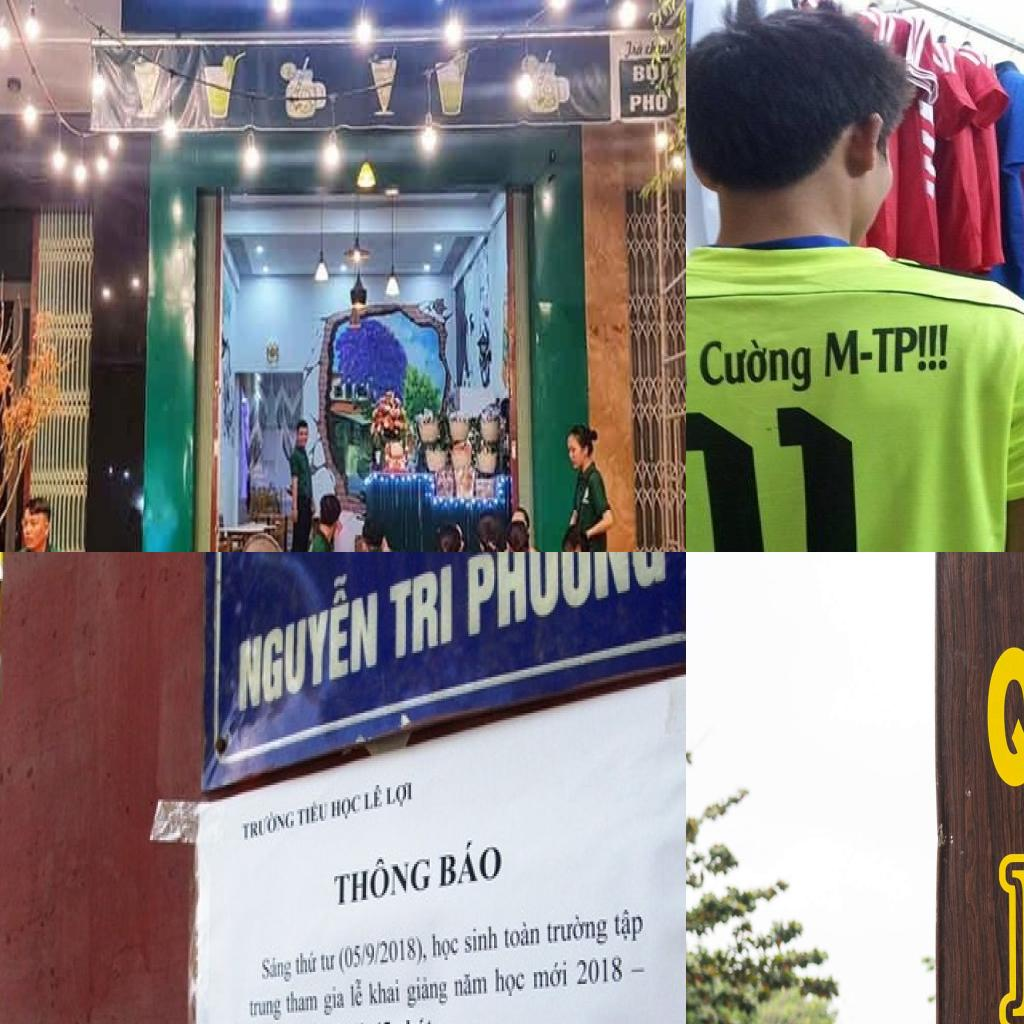text: (686, 396, 879, 552), (233, 560, 379, 720), (462, 552, 670, 643), (694, 330, 821, 398), (385, 560, 457, 668), (815, 320, 922, 386), (331, 845, 433, 912), (436, 833, 506, 900), (339, 934, 430, 976), (545, 912, 611, 951), (240, 804, 297, 847), (403, 970, 451, 1012), (576, 955, 626, 994), (609, 905, 648, 948), (531, 955, 571, 996), (492, 962, 531, 1004), (328, 785, 364, 828), (502, 920, 545, 956), (460, 922, 500, 960), (449, 970, 491, 1006), (296, 794, 329, 836), (384, 776, 417, 816), (282, 986, 320, 1020), (630, 82, 670, 114), (366, 974, 403, 1008), (247, 993, 286, 1024), (428, 929, 460, 965), (258, 956, 296, 986), (322, 980, 348, 1022), (630, 64, 668, 90), (294, 946, 320, 982), (364, 778, 387, 818), (348, 974, 366, 1013), (644, 38, 674, 58), (318, 946, 339, 974), (624, 39, 644, 61), (369, 1017, 394, 1024)
